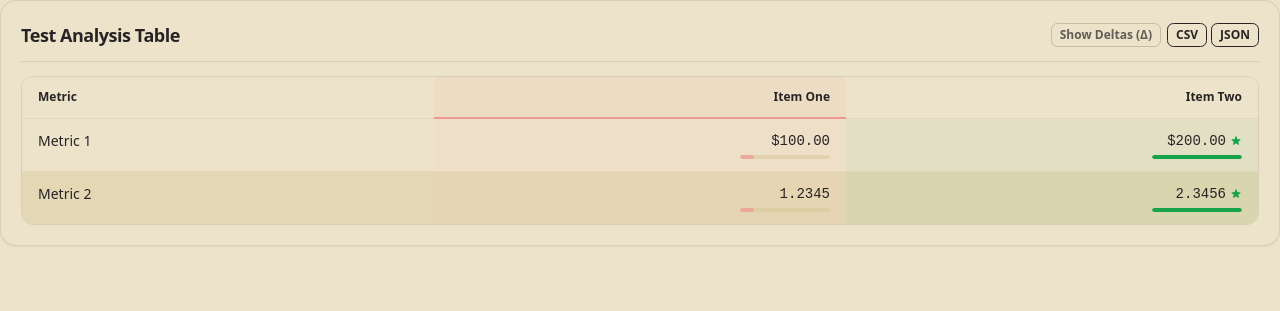
Test case: TabularAnalysis Component › toggles deltas when delta toggle button is clicked
Click the button "Show Deltas (Δ)" at [1106, 35], box [1051, 23, 1161, 47]
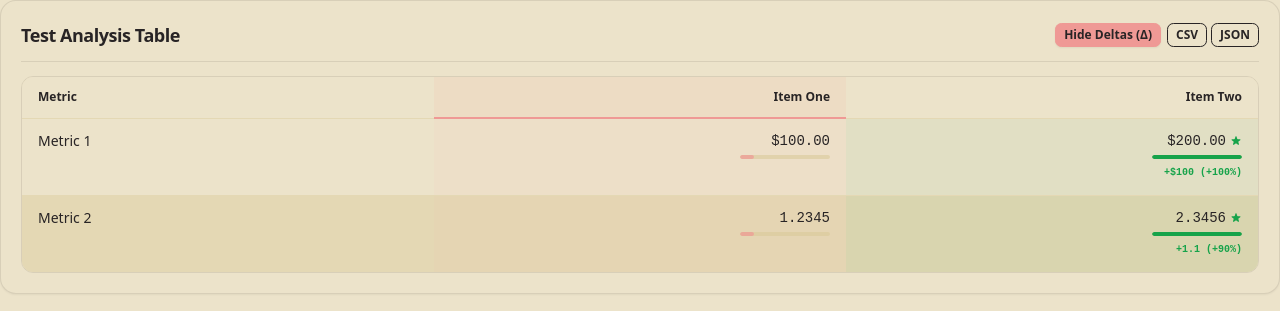
Check: the button "Hide Deltas (Δ)" is shown, box [1055, 23, 1161, 47]
Check: the text "+$100 (+100%)" is shown, box [1164, 166, 1242, 178]
